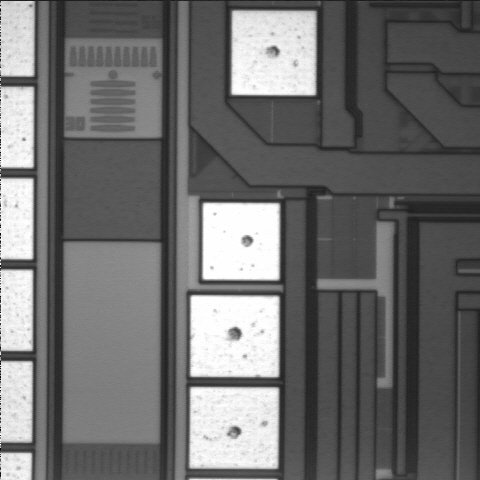pad: (190, 295, 279, 377), (190, 387, 279, 469), (231, 11, 316, 95), (202, 203, 280, 280)
